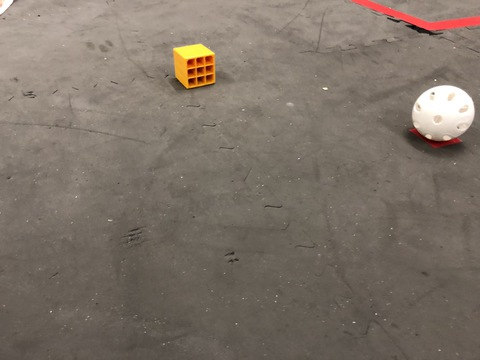ball: (416, 78, 479, 154)
block: (168, 44, 223, 91)
